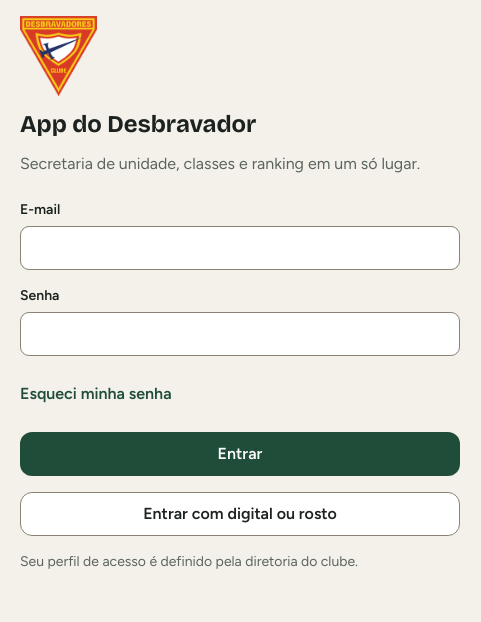
Test case: login › falha 401 mostra a mensagem única
This screenshot has width=481, height=622.
Type "ana@clube.test" into the field labelled "E-mail" at (240, 248), box [20, 226, 460, 270]
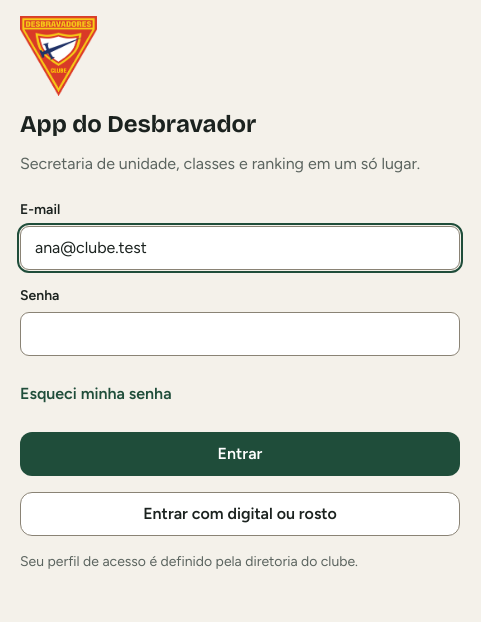
Type "errada" into the password field labelled "Senha" at (240, 334), box [20, 312, 460, 356]
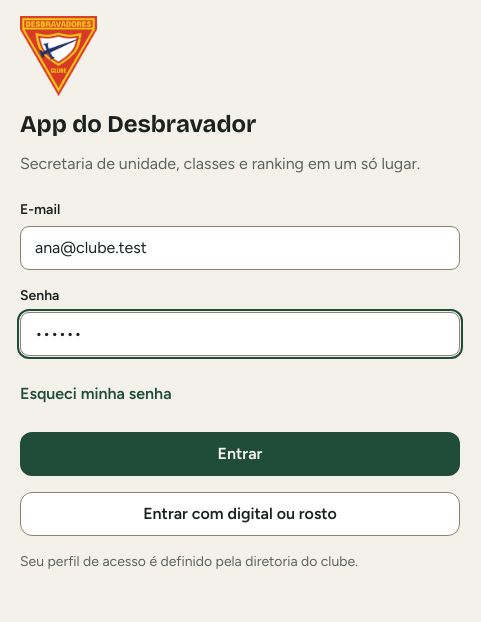
Click the button "Entrar" at (240, 454), box [20, 432, 460, 476]
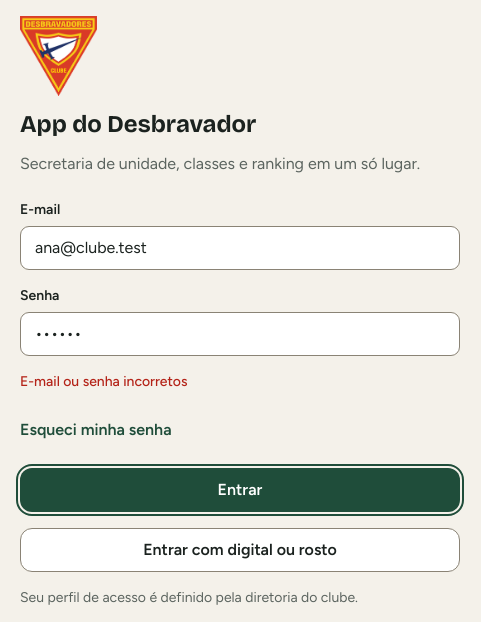
Expected: the text "E-mail ou senha incorretos" is shown, [20, 373, 188, 390]
